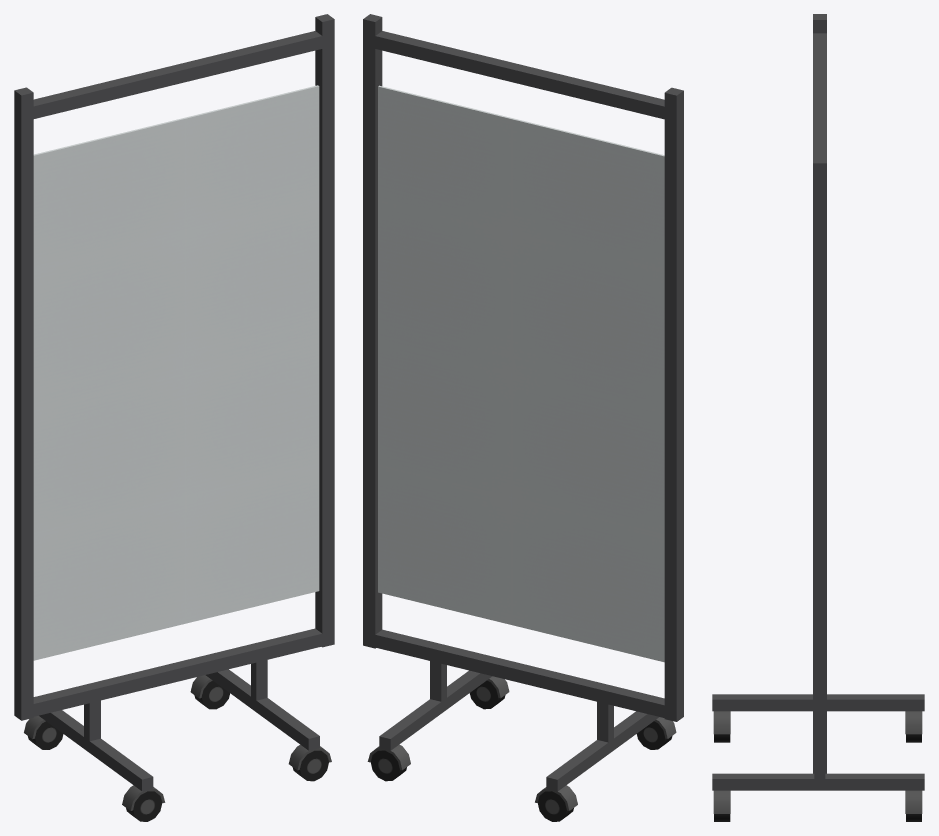
Rendered from screen1.FBX.
3 renders of one model, left to right at view 1: azimuth 30°, elevation 25°; view 2: azimuth 150°, elevation 25°; view 3: azimuth 270°, elevation 25°, orthographic. The views are drawn at different scales.
Visible parts, largest first — view 1: screen1; view 2: screen1; view 3: screen1.
Part boxes in pixels (bbox=[...]): screen1: bbox=[14, 14, 334, 821]; screen1: bbox=[363, 14, 683, 821]; screen1: bbox=[712, 14, 924, 821].
Size of the model in its own units: 38.06 by 22.9 by 82.21.
